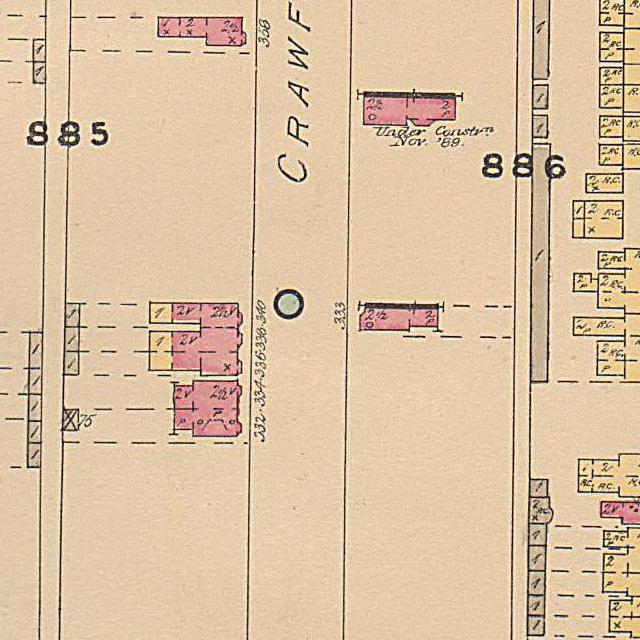building-footprints: (149, 303, 242, 375), (531, 144, 550, 382), (574, 314, 640, 382), (173, 381, 241, 436), (364, 92, 456, 125), (598, 249, 640, 314), (578, 454, 640, 497), (603, 528, 640, 596), (158, 17, 246, 45), (360, 304, 438, 331), (584, 201, 623, 239), (600, 29, 640, 64), (533, 0, 549, 79), (610, 596, 640, 638), (601, 502, 640, 524), (586, 174, 623, 193), (529, 497, 553, 523), (600, 84, 624, 108), (600, 116, 623, 137), (600, 144, 623, 165), (29, 332, 42, 369), (623, 84, 640, 112), (600, 67, 624, 85), (574, 274, 598, 292), (528, 546, 545, 571), (623, 116, 640, 141), (623, 144, 640, 169), (528, 571, 545, 595), (529, 523, 546, 546), (532, 85, 548, 109), (64, 351, 79, 375), (65, 303, 80, 327), (623, 64, 640, 85), (65, 327, 79, 352), (528, 595, 545, 615), (29, 369, 42, 395), (63, 410, 79, 431), (532, 116, 547, 138), (529, 479, 547, 497), (29, 394, 41, 421), (527, 616, 544, 635), (28, 443, 41, 467), (28, 421, 41, 443), (33, 39, 45, 62), (33, 62, 46, 83), (573, 218, 585, 238), (573, 201, 584, 219)
